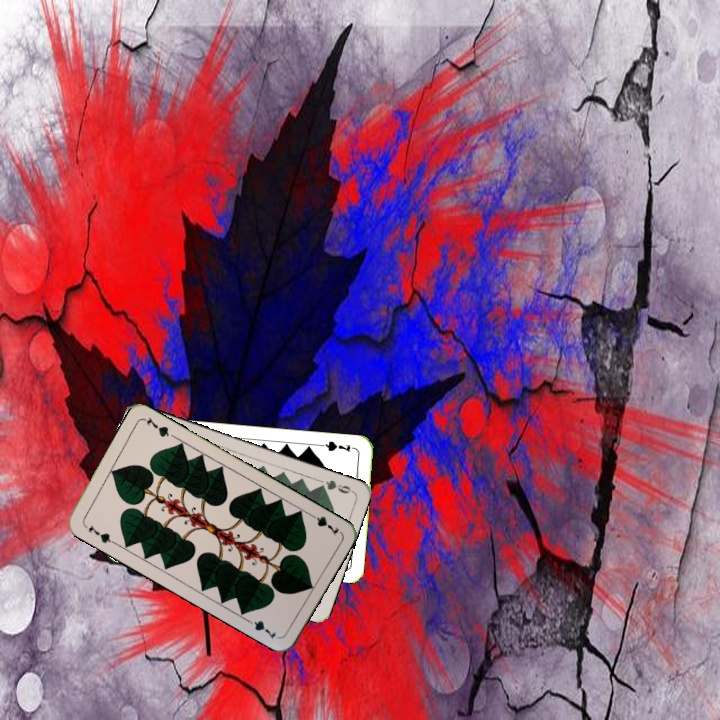G7: (305, 509, 341, 538), (84, 521, 117, 546), (318, 437, 358, 454)
G9: (314, 476, 355, 496)
